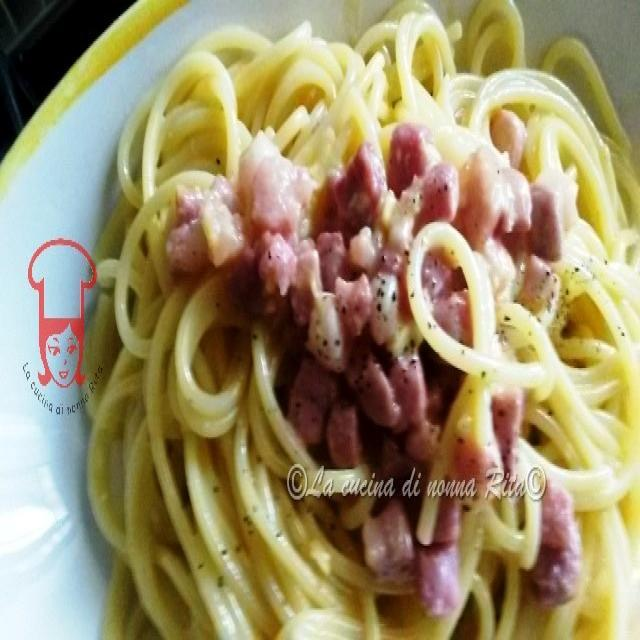Pasta with carbonara sauce: (102, 43, 626, 621)
